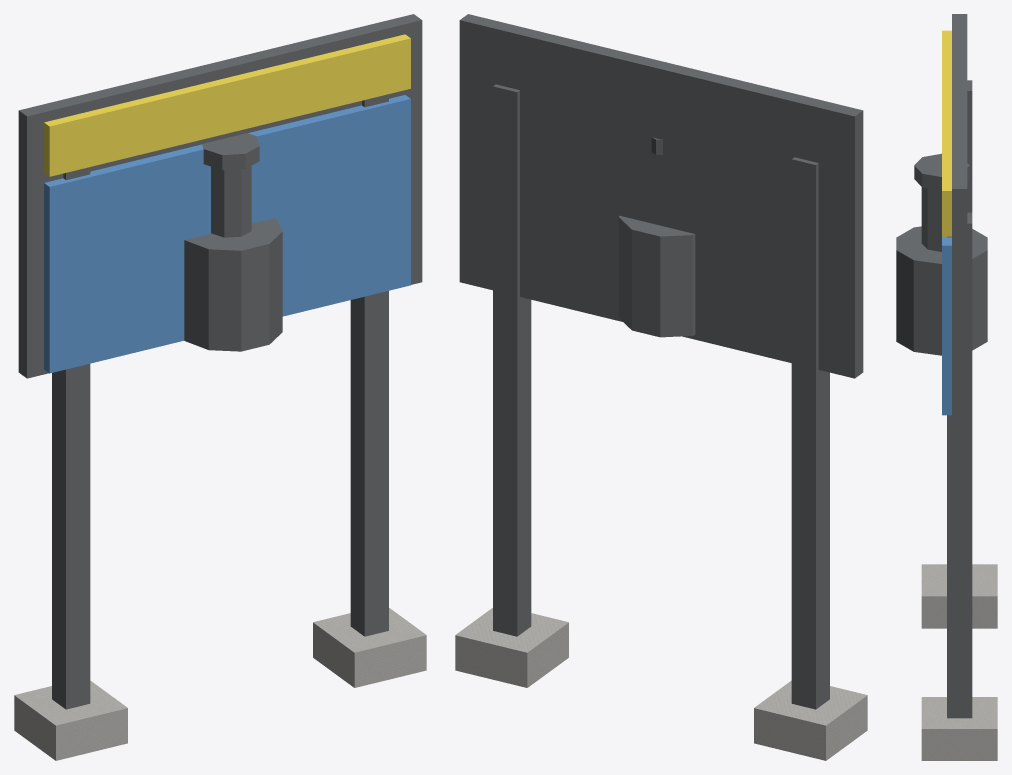
The model's file is recycling-and-waste-transfer-yard-recycling-and-waste--1afad172__34901.glb.
3 views of the same model, side by side, from view 1: azimuth 30°, elevation 25°; view 2: azimuth 150°, elevation 25°; view 3: azimuth 270°, elevation 25° (orthographic). The views are drawn at different scales.
Visible parts, largest first — view 1: recycling-and-waste-transfer-yard-material-signage-board-gla (×4); view 2: recycling-and-waste-transfer-yard-material-signage-board-gla (×2); view 3: recycling-and-waste-transfer-yard-material-signage-board-gla (×4).
Part boxes in pixels (left/top/right/bottom): recycling-and-waste-transfer-yard-material-signage-board-gla (×4): left=14, top=14, right=426, bottom=760; recycling-and-waste-transfer-yard-material-signage-board-gla (×2): left=455, top=14, right=867, bottom=760; recycling-and-waste-transfer-yard-material-signage-board-gla (×4): left=896, top=14, right=997, bottom=760.
Bounding box in the file's own units: 1.64 × 2.52 × 0.4007.
Materials: 4 (1 with a texture image).
